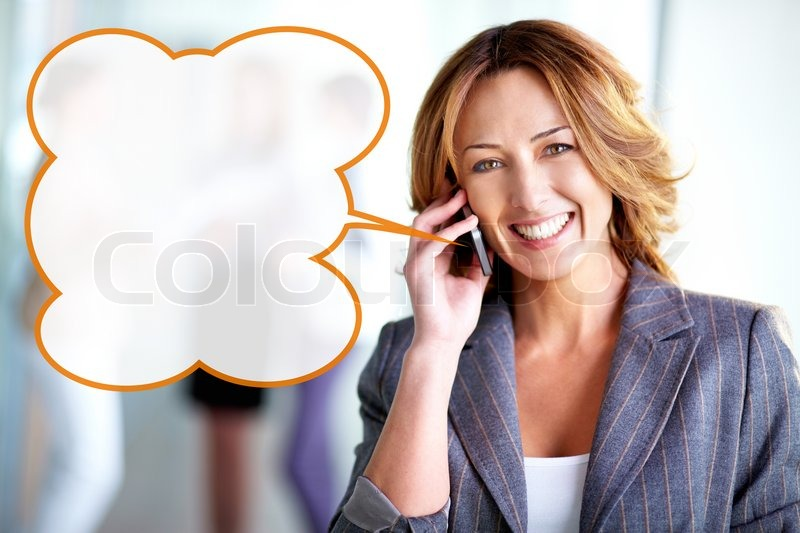phone: (407, 189, 501, 285)
talk: (399, 124, 612, 317)
